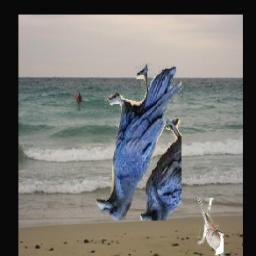Crow: (96, 62, 182, 221)
Cuckoo: (197, 198, 224, 256)
